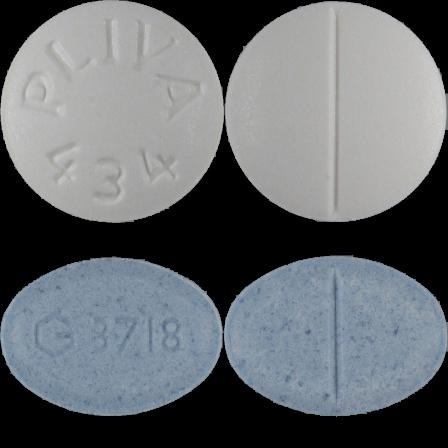16590-232: (0, 0, 224, 224)
